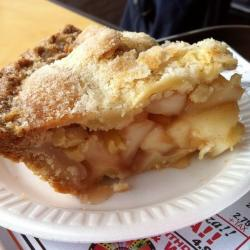apple_pie: (1, 23, 246, 191)
